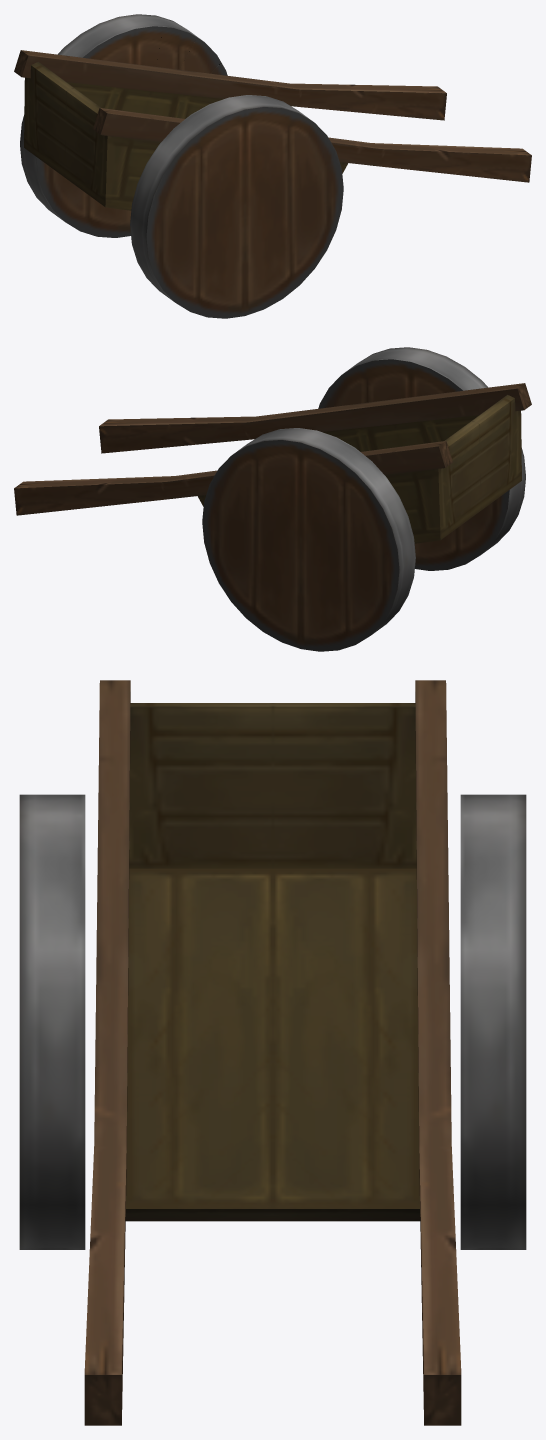
The model's file is OutdoorM_Cart_a.FBX.
The picture shows the model from 3 angles, top to bottom: view 1: azimuth 30°, elevation 25°; view 2: azimuth 150°, elevation 25°; view 3: azimuth 270°, elevation 25°; orthographic projection. The views are drawn at different scales.
Parts seen in each view (by area): view 1: OutdoorM_Cart_a; view 2: OutdoorM_Cart_a; view 3: OutdoorM_Cart_a.
Part boxes in pixels (left/top/right/bottom): OutdoorM_Cart_a: left=14, top=14, right=531, bottom=318; OutdoorM_Cart_a: left=14, top=347, right=531, bottom=651; OutdoorM_Cart_a: left=19, top=680, right=526, bottom=1425.
Size of the model in its own units: 26.76 by 12.96 by 13.73.
